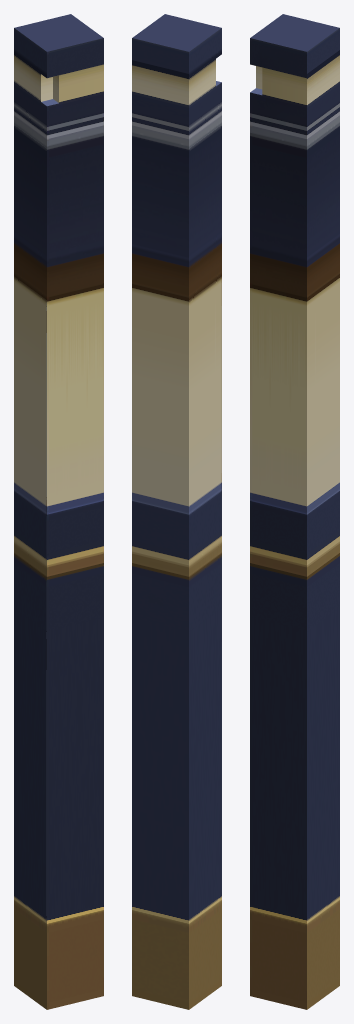
File: my_highlander_01_wall_side.glb
The picture shows the model from 3 angles, left to right: view 1: azimuth 30°, elevation 25°; view 2: azimuth 150°, elevation 25°; view 3: azimuth 330°, elevation 25°; orthographic projection.
Visible parts, largest first — view 1: my_highlander_01_wall_side; view 2: my_highlander_01_wall_side; view 3: my_highlander_01_wall_side.
Part boxes in pixels (x1=…): my_highlander_01_wall_side: x1=14, y1=14, x2=103, y2=1009; my_highlander_01_wall_side: x1=132, y1=14, x2=221, y2=1009; my_highlander_01_wall_side: x1=250, y1=14, x2=339, y2=1009.
Size of the model in its own units: 0.003 by 0.0483 by 0.003.
Materials: 1 (1 with a texture image).
